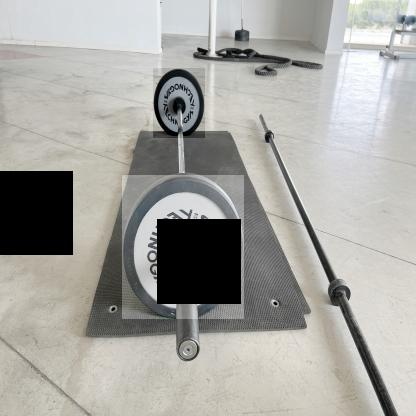barbell: (123, 176, 245, 320), (154, 69, 206, 139)
